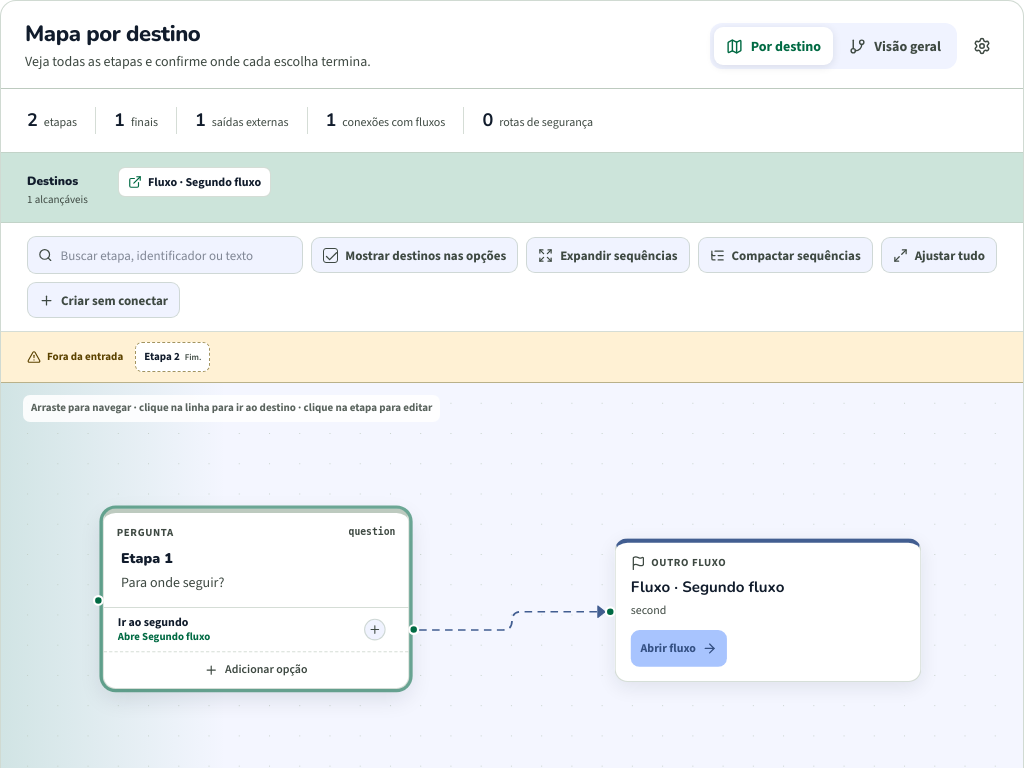
Scenario: FlowMap › opens by destination and switches to the complete system overview
What coordinates should you click on to do the following:
click the button "Visão geral"
I would click on:
 (895, 46)
Its box is [837, 27, 953, 65].
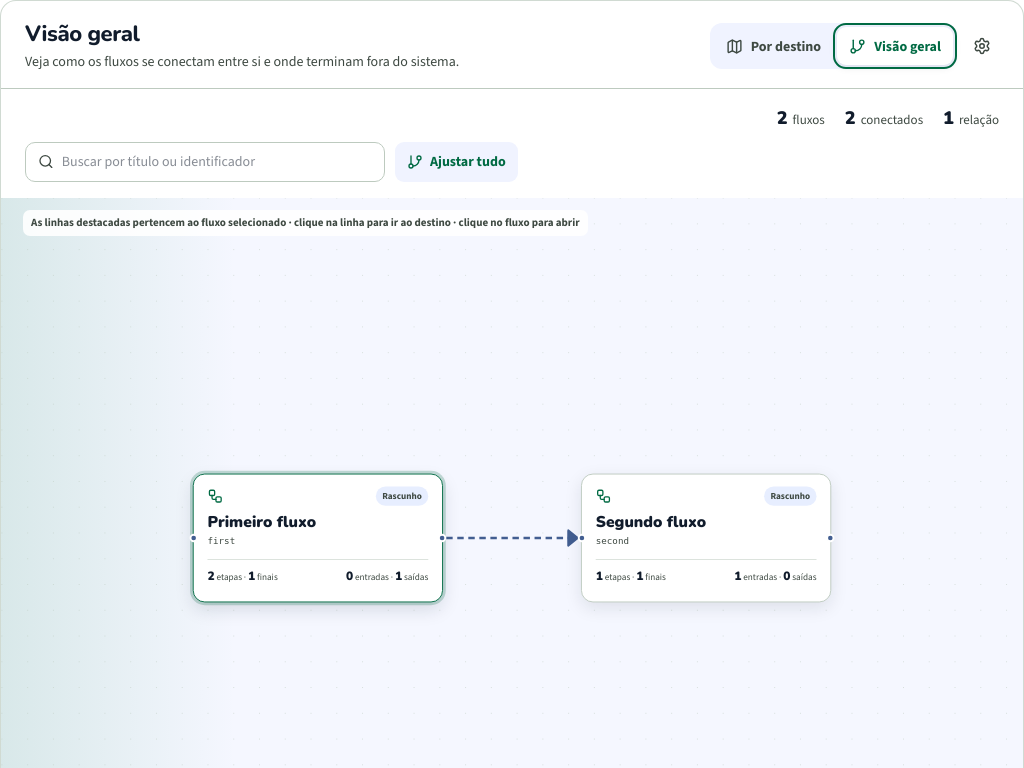
Now the element named "Resumo do sistema" shows "2 fluxos", box [777, 106, 999, 130]
Now the element named "Resumo do sistema" shows "1 relação", box [777, 106, 999, 130]
